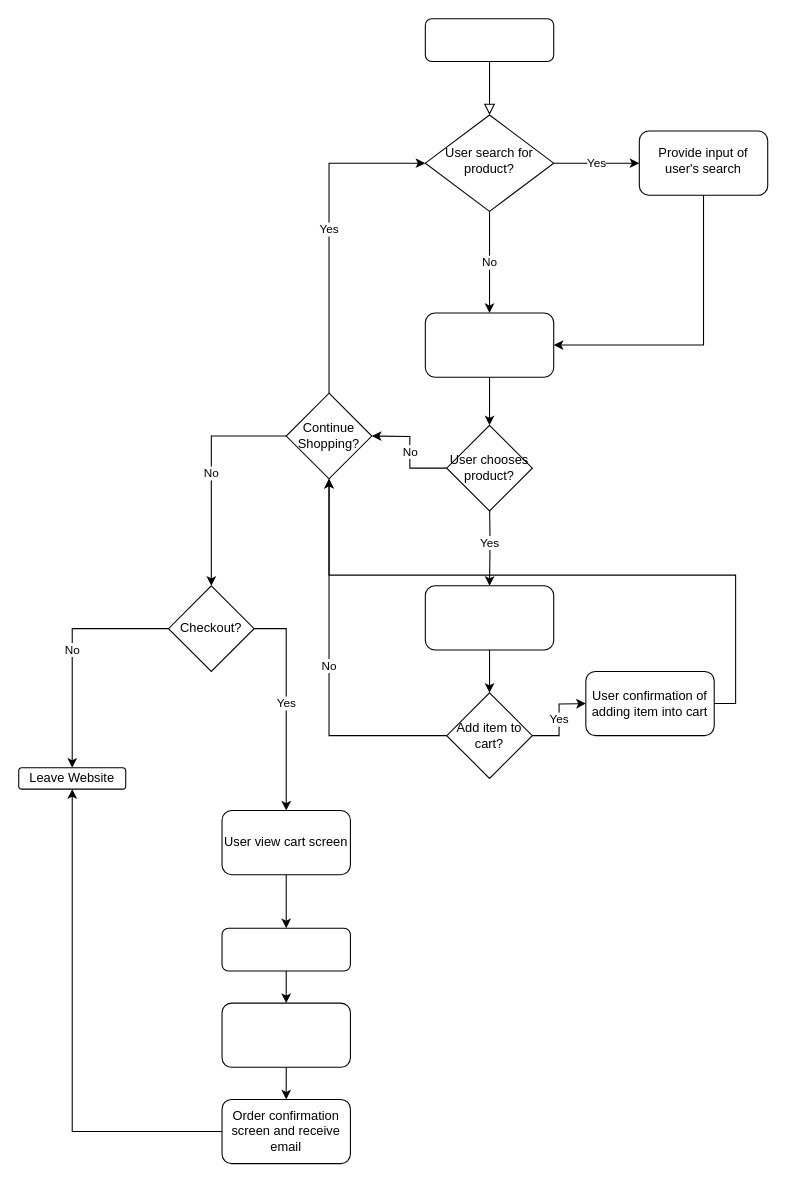
Image size: 786x1182. Some labels were removed from this diagram. The shapes that lost their labels are listed below. From the top down, each one's centre as x and y in pixels, then its label:
At (489,40): "User Enters Website".
At (489,344): "List of products shown".
At (489,617): "Bring user to specific product page".
At (285,949): "User view payment screen".
At (285,1034): "User input payment information".
